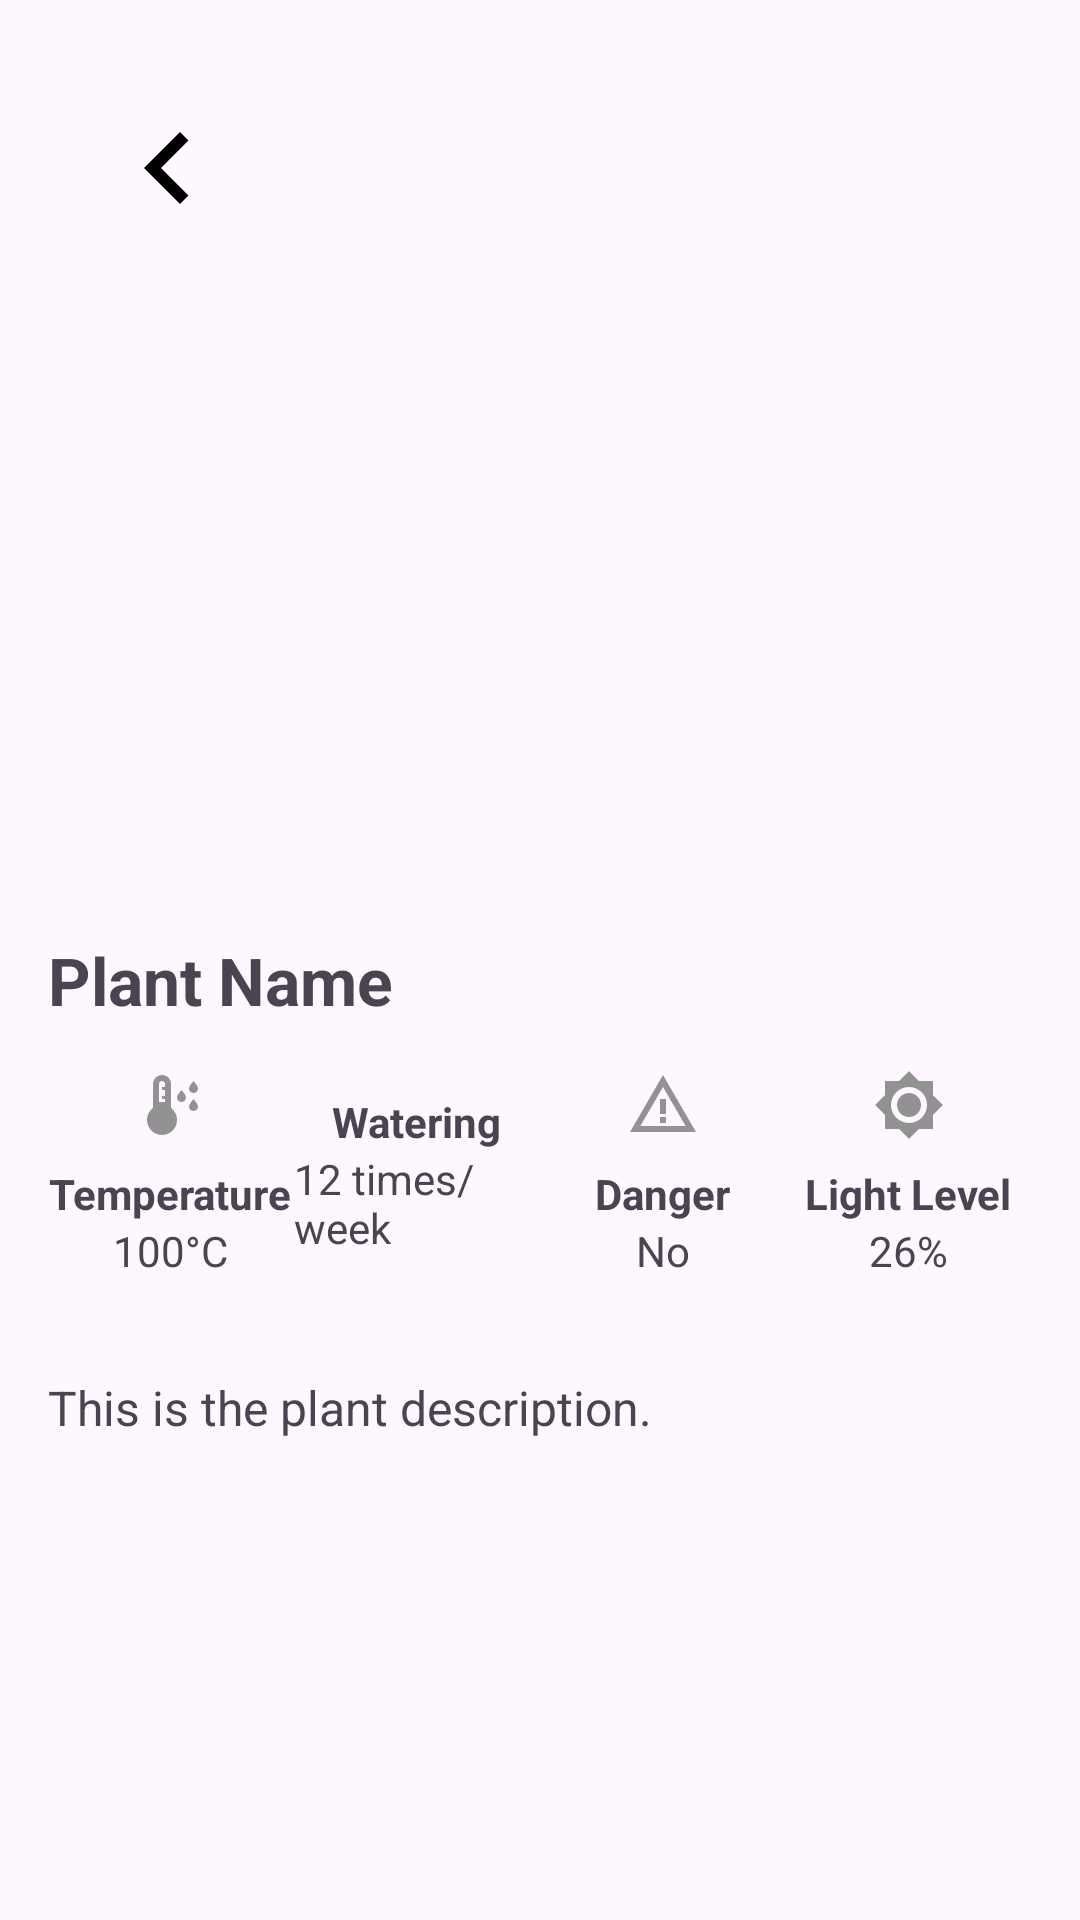

Screen size 1080w x 1920h. Icon name, then its box in pixels as (x1, y1, x2, y2):
Back: (144, 132, 189, 204)
brightness: (875, 1071, 943, 1139)
